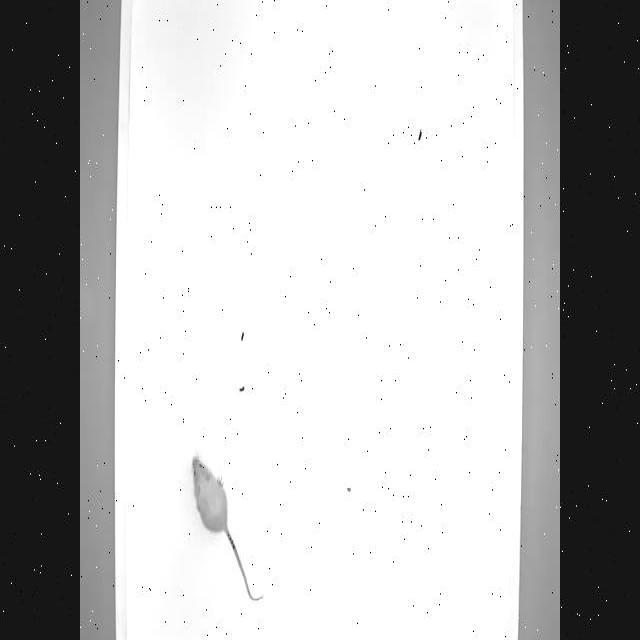rat: (188, 451, 266, 605)
